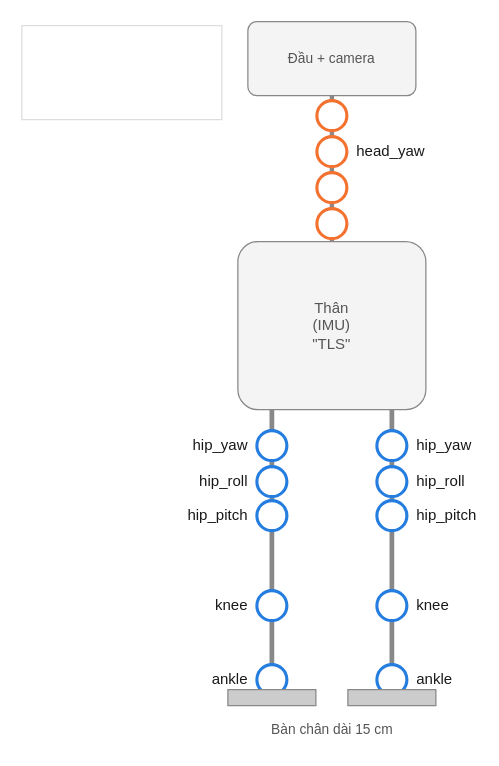
Some shapes in this 499 by 766 pixel diagram are drawn without their labels. The shapes that lost their labels are listed below. From the top down, each one's centre as x and y in pixels, then its label:
(x=121, y=72): Chân: 5 khớp × 2 = 10 Đầu–cổ: 4 khớp Tổng: 14 servo MX-106 Cao 60 cm · ~4,5 kg
(x=331, y=115): head_roll
(x=331, y=187): head_pitch
(x=331, y=223): neck_pitch
